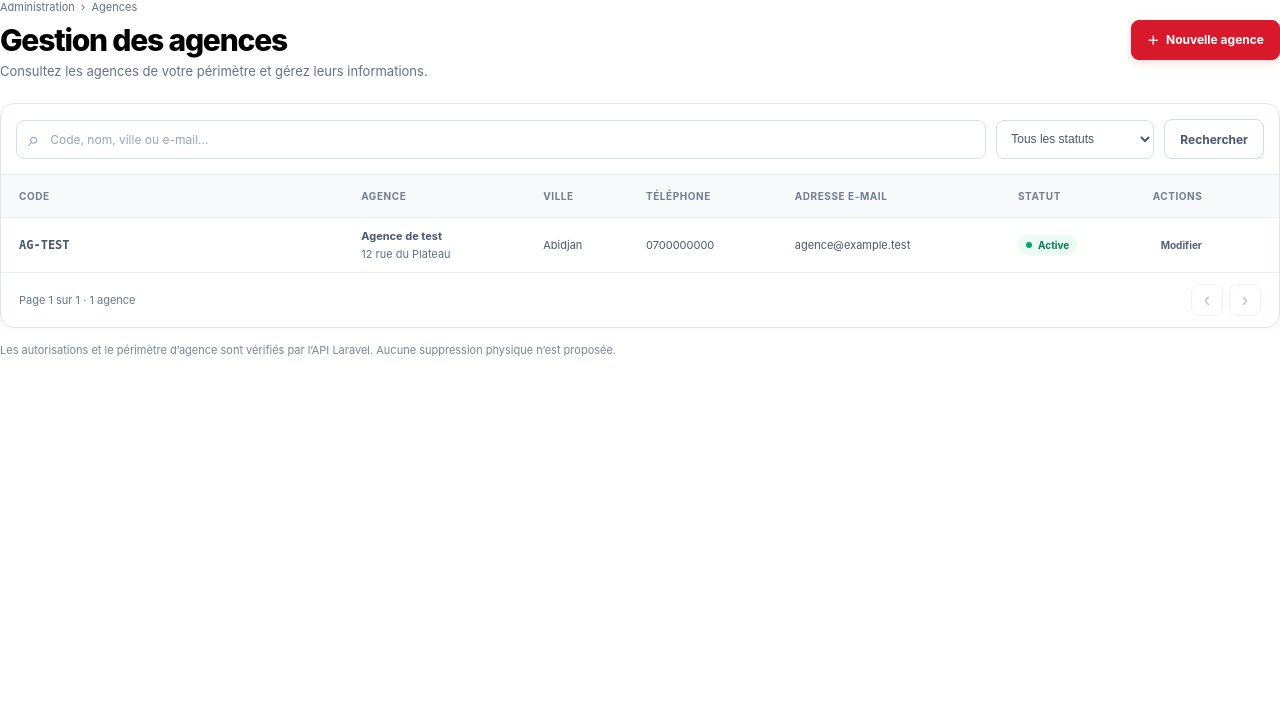
Scenario: updates agency details and status
Expected: the text "Agence de test" is shown, left=361, top=228, right=442, bottom=242
Click the button "Modifier" at x=1181, y=244, box left=1153, top=230, right=1210, bottom=258
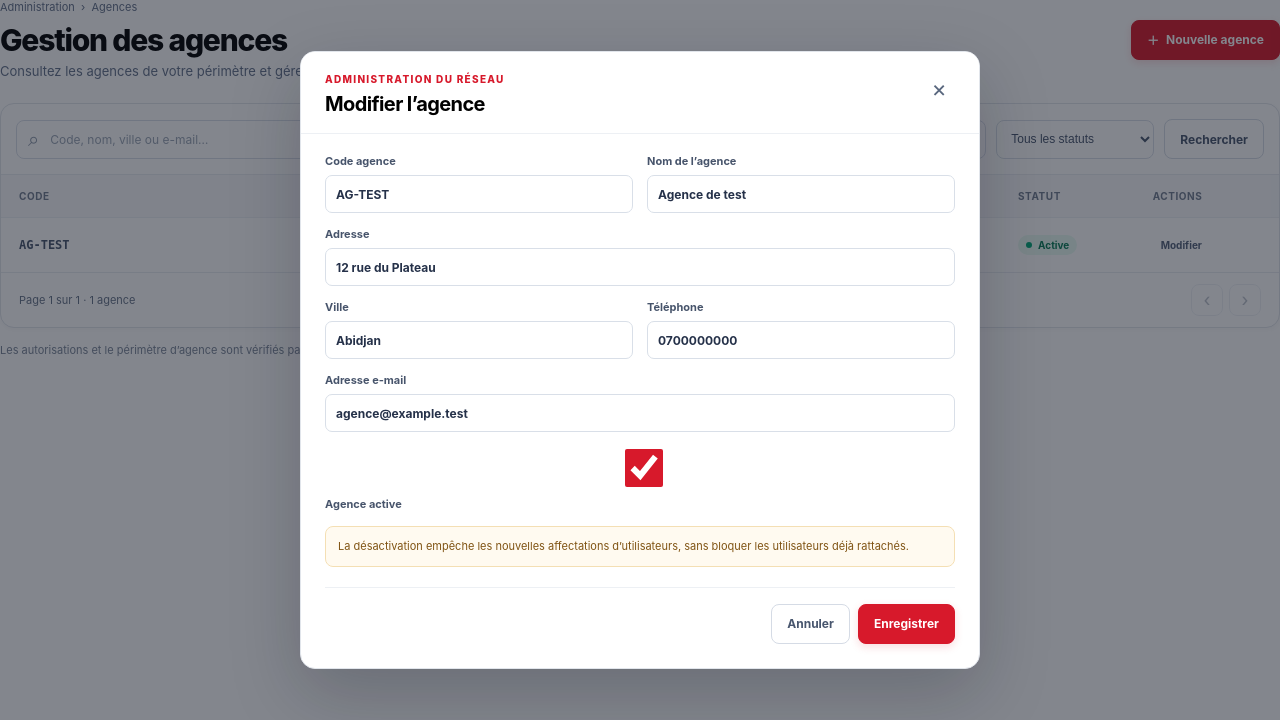
Click the checkbox labelled "Agence active" at x=644, y=468, box left=329, top=449, right=959, bottom=487
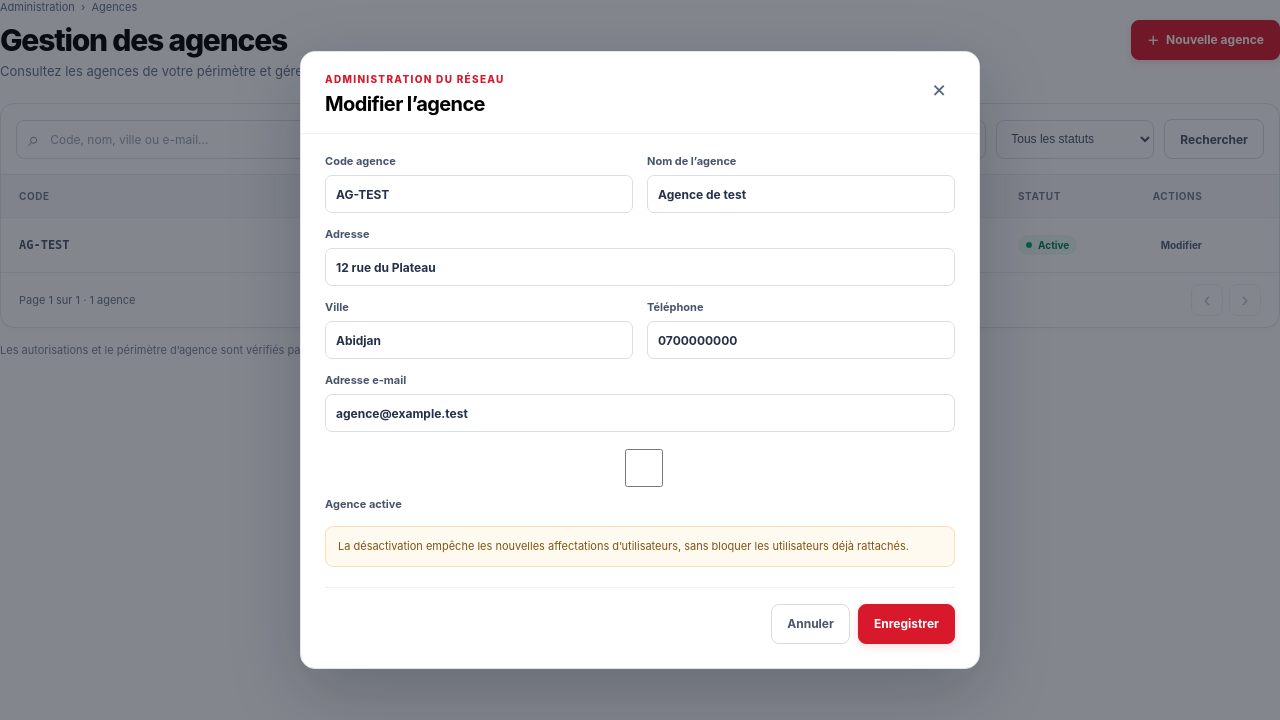
Click the button "Enregistrer" at x=906, y=624, box left=858, top=604, right=955, bottom=644
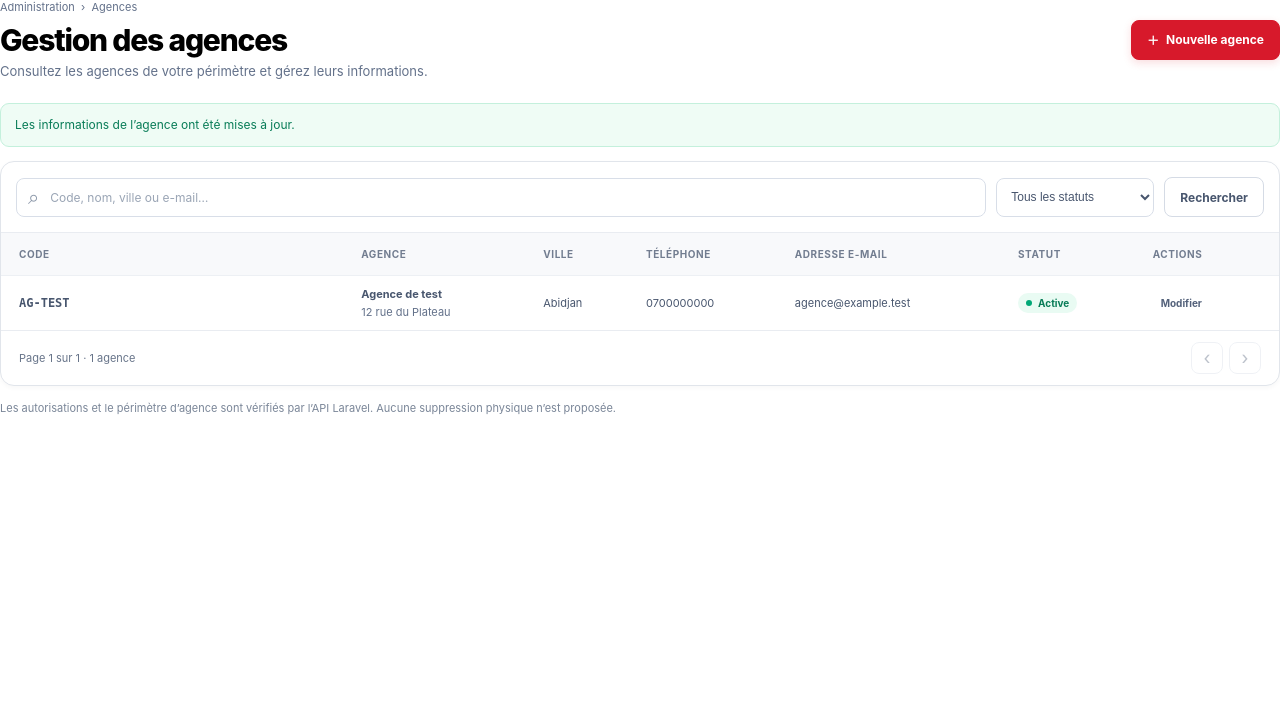
Now the message reads "Les informations de l’agence ont été mises à jour.", box left=15, top=117, right=295, bottom=132
